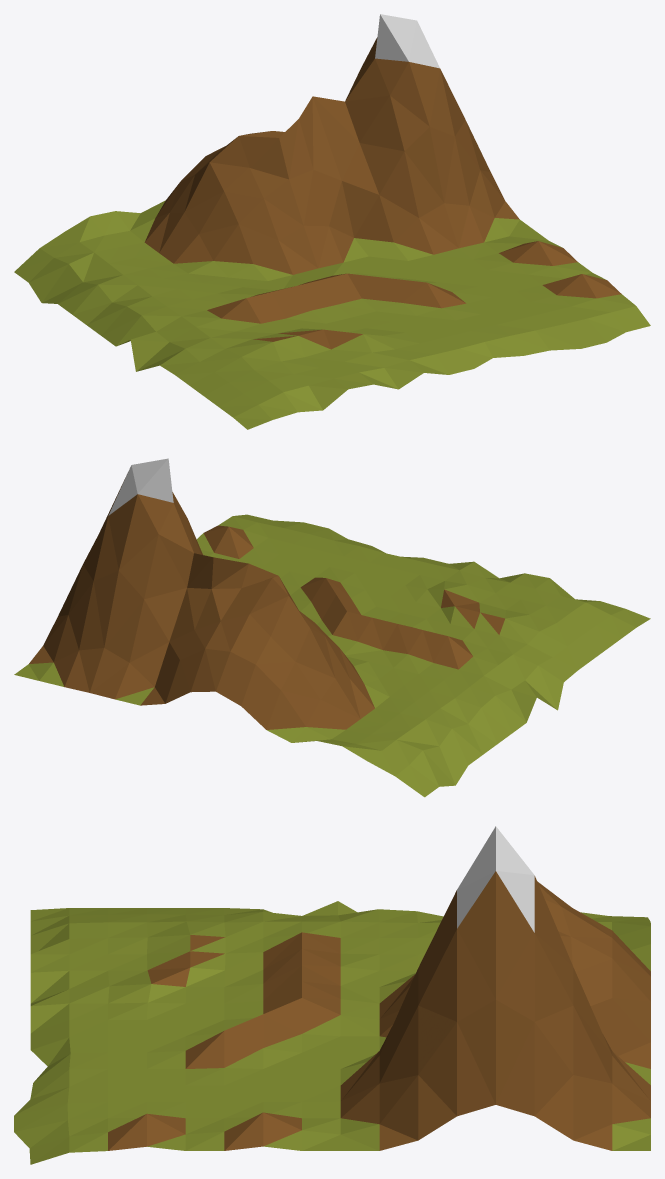
Rendered from Mountain2.glb.
3 renders of one model, top to bottom at view 1: azimuth 30°, elevation 25°; view 2: azimuth 150°, elevation 25°; view 3: azimuth 270°, elevation 25°, orthographic. The views are drawn at different scales.
Visible parts, largest first — view 1: Object_104, Object_105, Object_106; view 2: Object_105, Object_104, Object_106; view 3: Object_104, Object_105, Object_106.
Boxes of the visible parts, x1,y1,x2,y2 form: Object_104: (14, 200, 650, 429); Object_105: (144, 37, 621, 349); Object_106: (375, 14, 439, 68); Object_105: (29, 475, 504, 729); Object_104: (14, 514, 650, 797); Object_106: (108, 458, 173, 515); Object_104: (14, 901, 650, 1164); Object_105: (108, 871, 650, 1150); Object_106: (457, 826, 534, 932).
Bounding box in the file's own units: 57.79 × 30.99 × 57.98.
